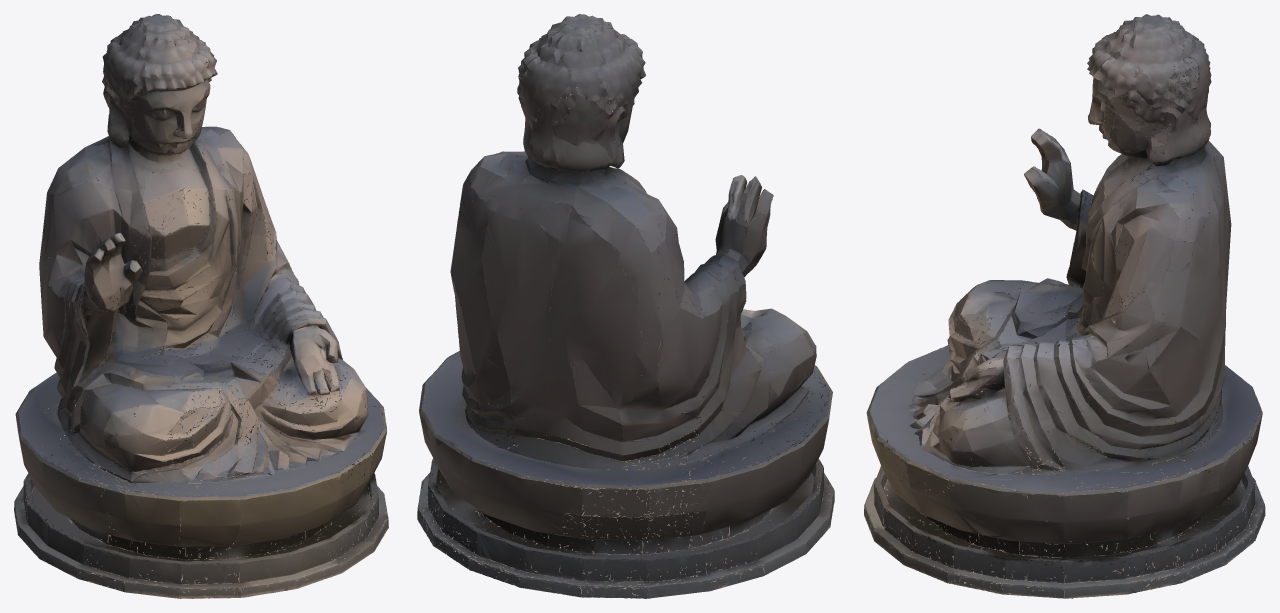
Rendered from buddha.glb.
3 renders of one model, left to right at view 1: azimuth 30°, elevation 25°; view 2: azimuth 150°, elevation 25°; view 3: azimuth 270°, elevation 25°, orthographic. The views are drawn at different scales.
Parts seen in each view (by area): view 1: node_0; view 2: node_0; view 3: node_0.
Part boxes in pixels (<box>): node_0: <box>14,14,388,598</box>; node_0: <box>417,14,834,598</box>; node_0: <box>864,14,1265,598</box>.
Bounding box in the file's own units: 0.6982 × 0.9693 × 0.7119.
1 material, 1 textured.
